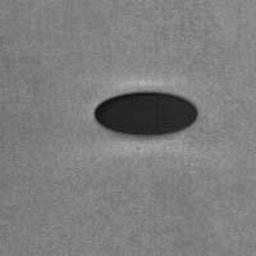Punching: (93, 92, 198, 137)
